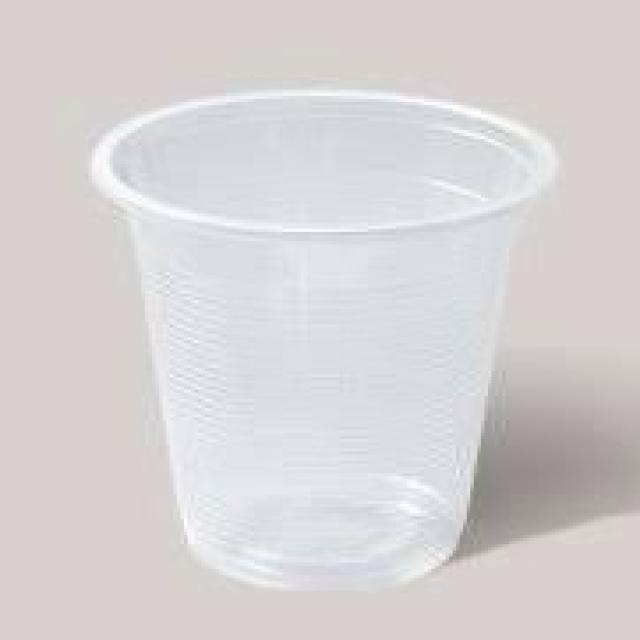plastic cup: (85, 80, 548, 580)
